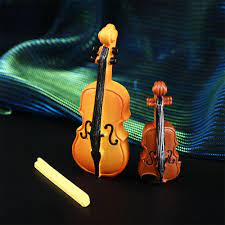Violin: (66, 17, 138, 189), (130, 68, 195, 194)
